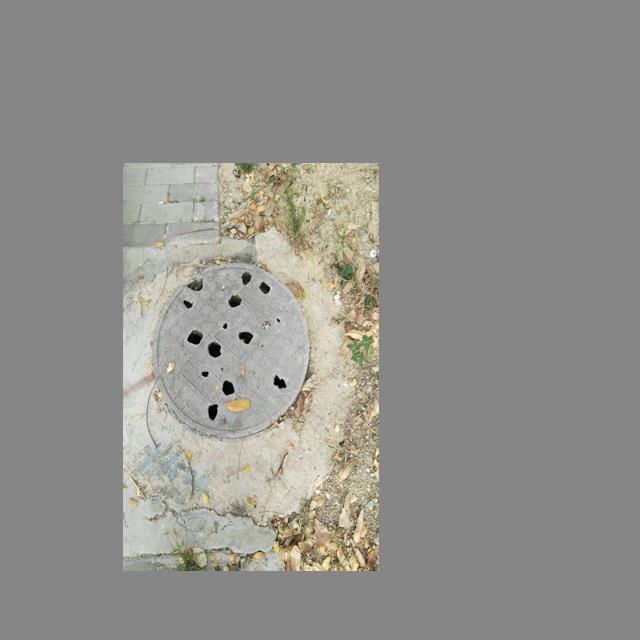broke: (152, 262, 310, 437)
